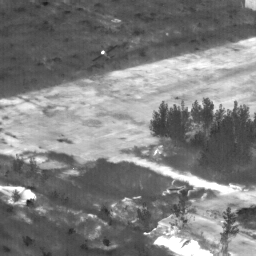aircraft: (102, 52, 104, 54)
